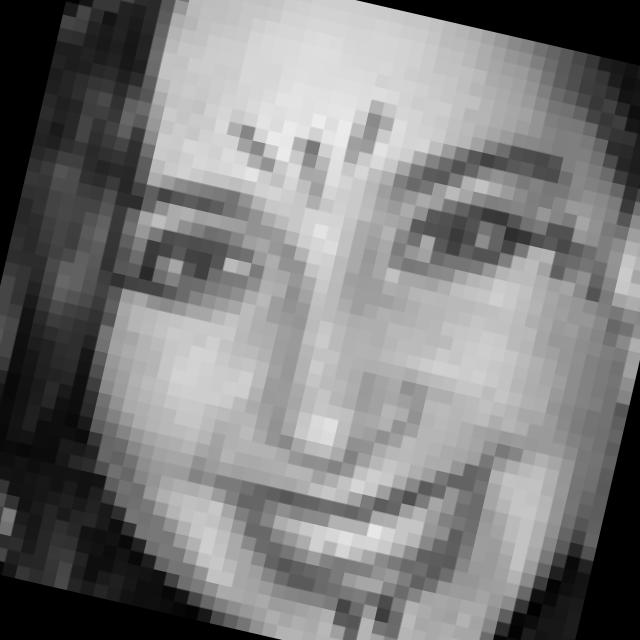happy: (50, 59, 595, 640)
